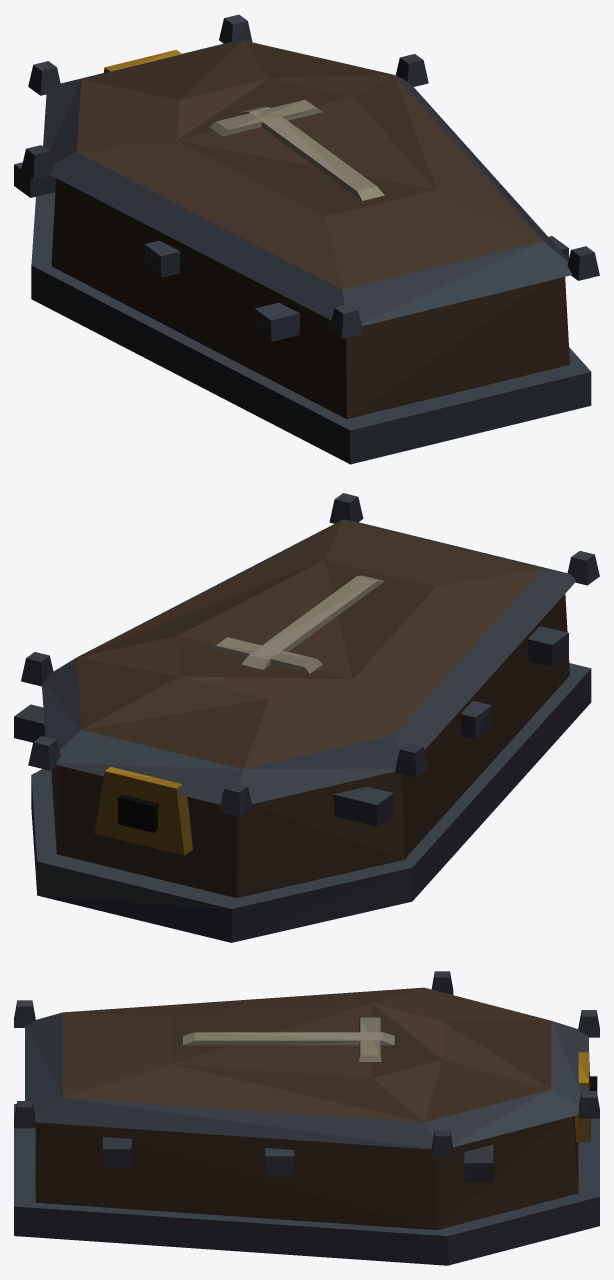
The model's file is coffin_decorated.gltf.
3 views of the same model, one above another, from view 1: azimuth 30°, elevation 25°; view 2: azimuth 150°, elevation 25°; view 3: azimuth 270°, elevation 25° (orthographic). The views are drawn at different scales.
Visible parts, largest first — view 1: coffin_decorated; view 2: coffin_decorated; view 3: coffin_decorated.
Part boxes in pixels (x1=…): coffin_decorated: x1=14, y1=14, x2=599, y2=464; coffin_decorated: x1=14, y1=493, x2=599, y2=942; coffin_decorated: x1=14, y1=971, x2=599, y2=1265.
Bounding box in the file's own units: 2.2 × 0.905 × 3.24.
Materials: 1 (1 with a texture image).
